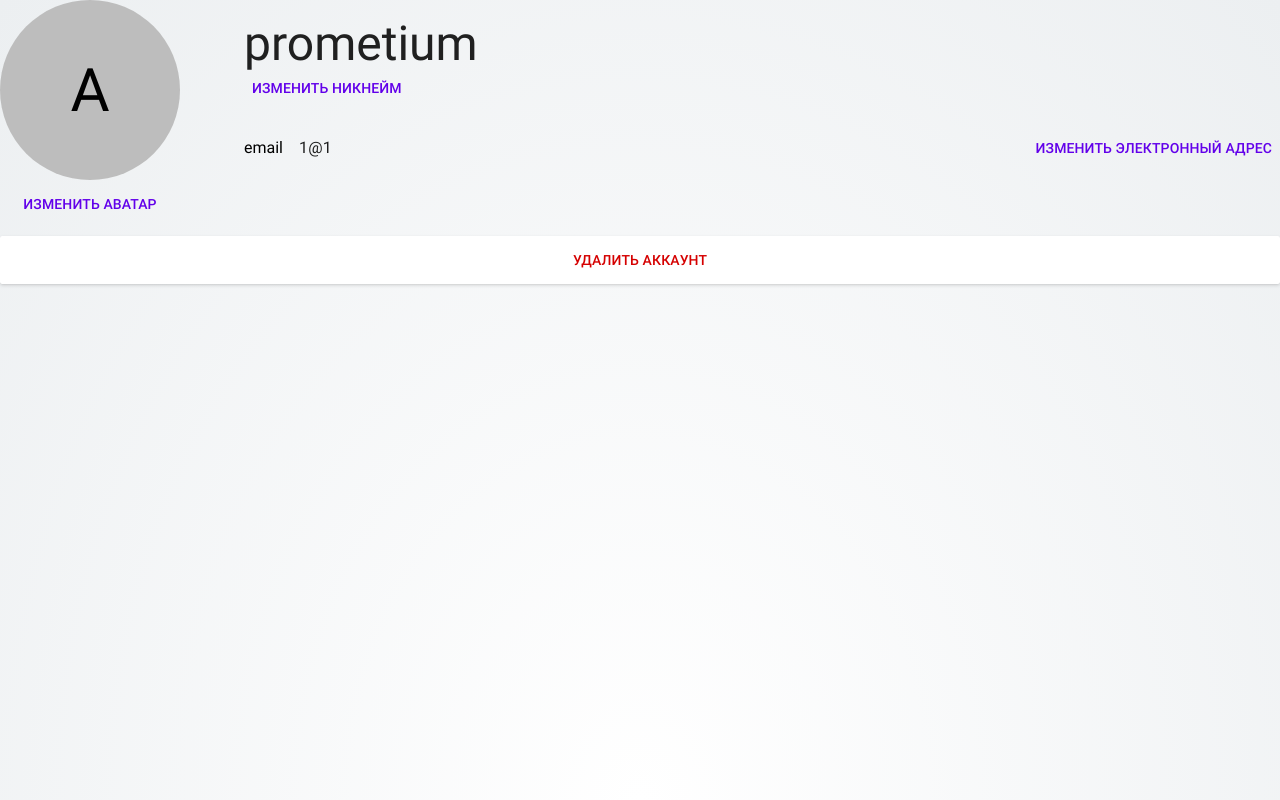
Test case: edit email
Expected: the text "1@1" is shown, 299,136 -> 332,160
Click the button "Изменить электронный адрес" at (1154, 148), box 1028,132 -> 1279,164
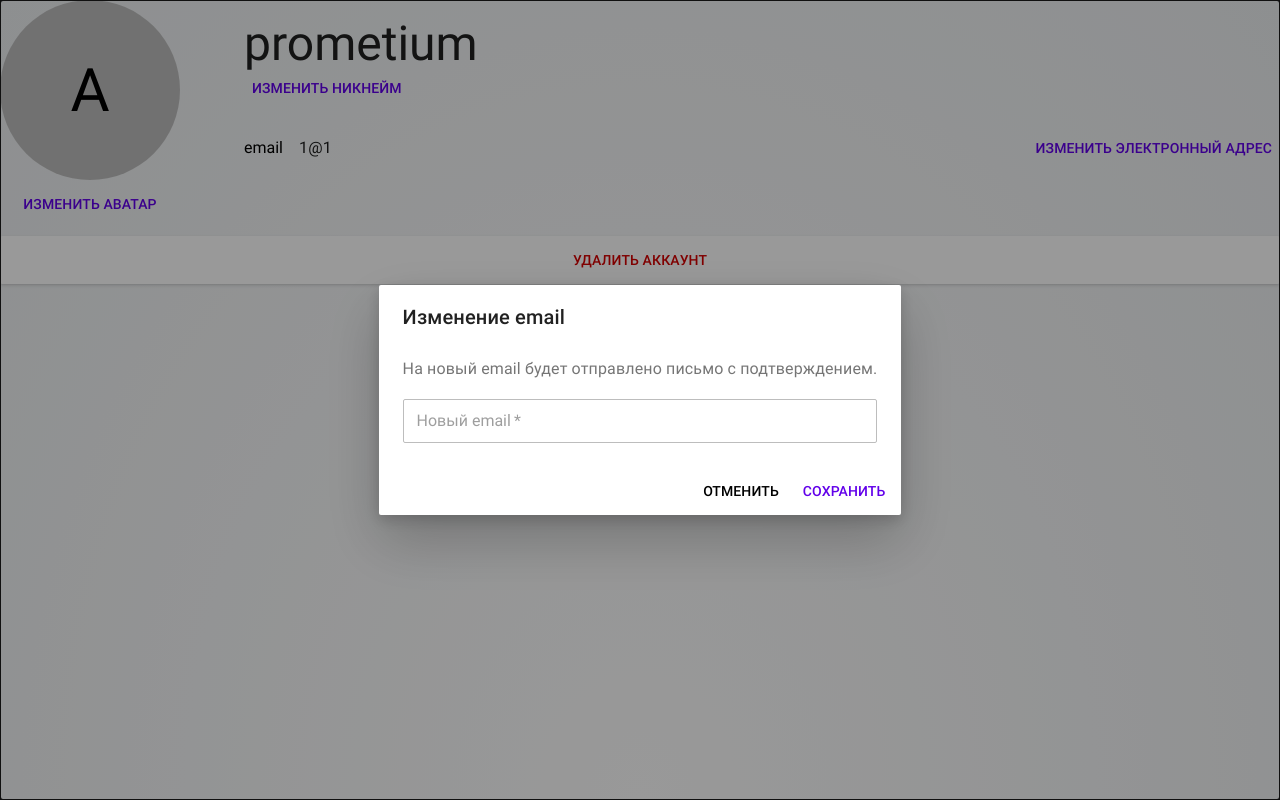
Type "2@1" into the field labelled "Новый email" at (640, 421), box 403,399 -> 877,443
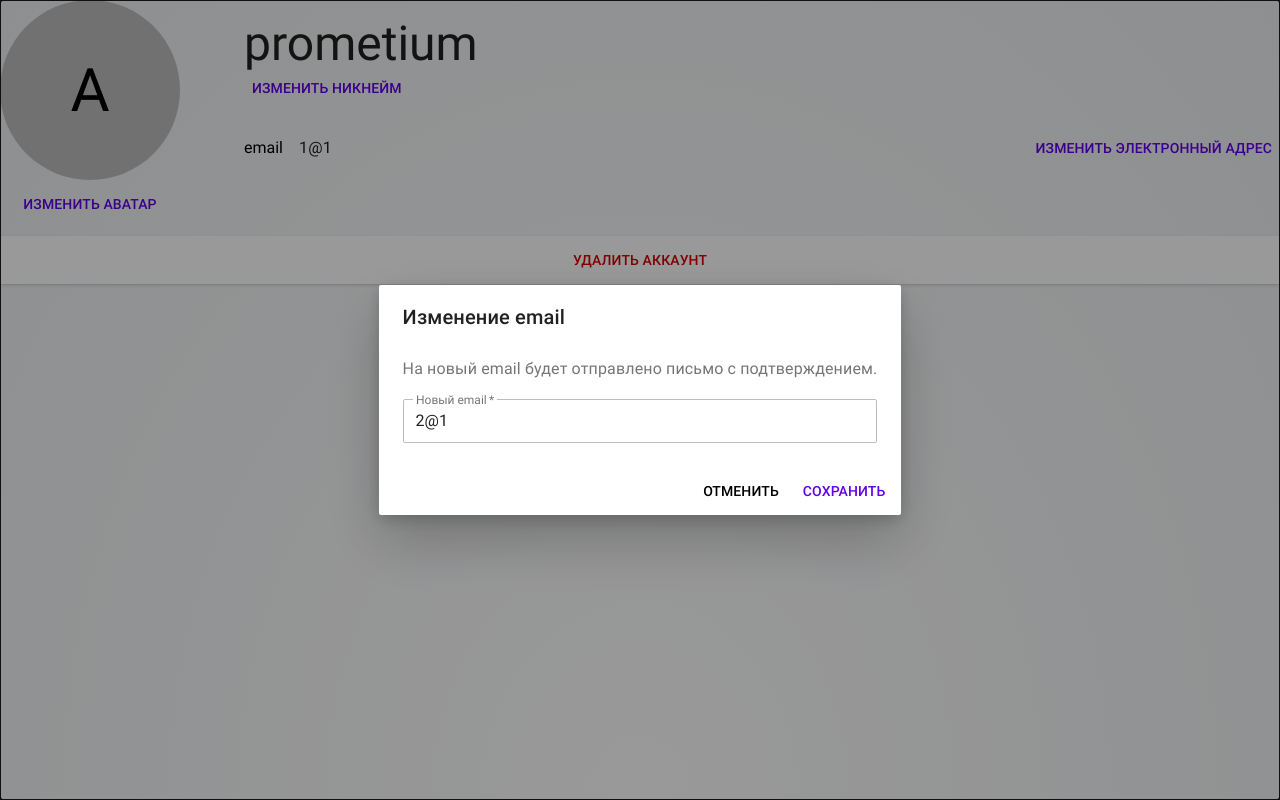
Click the button "Сохранить" at (844, 491), box 795,475 -> 893,507
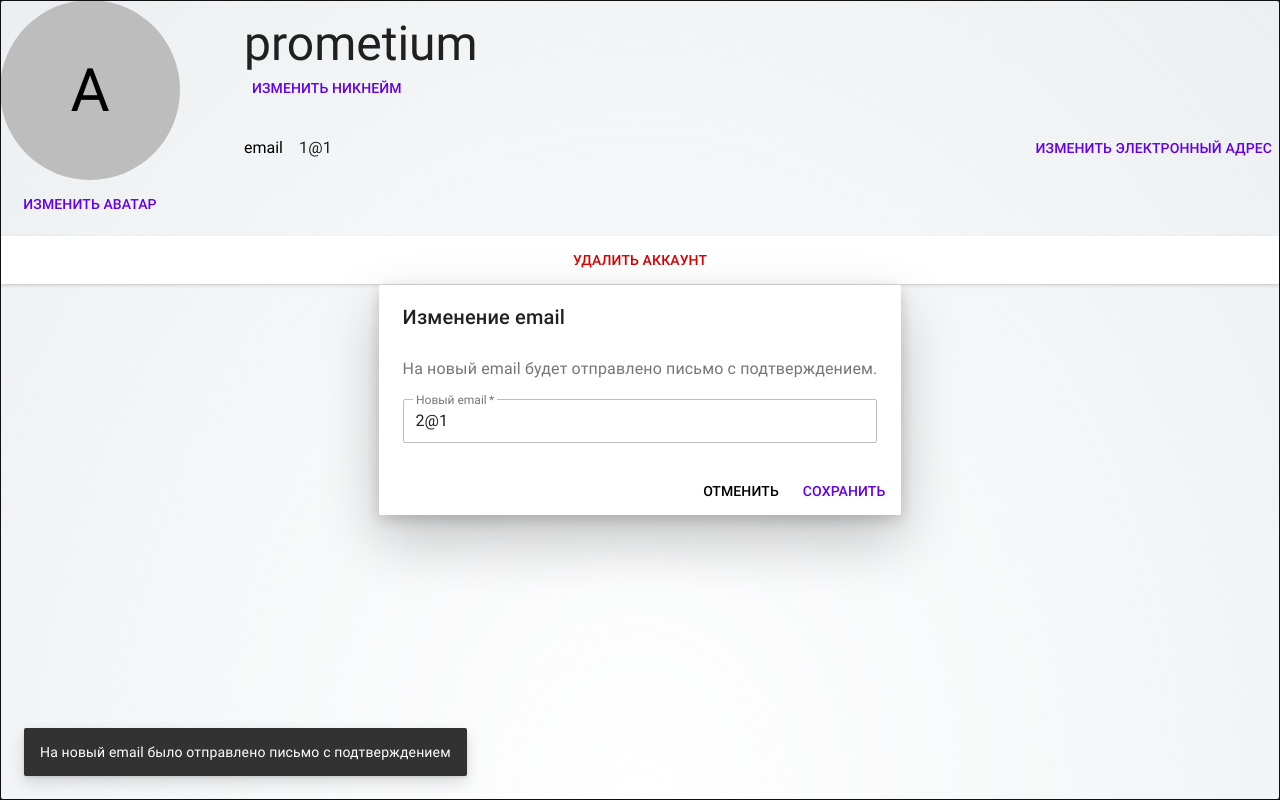
Now the text "На новый email было отправлено письмо с подтверждением" is shown, box 40,744 -> 451,760
